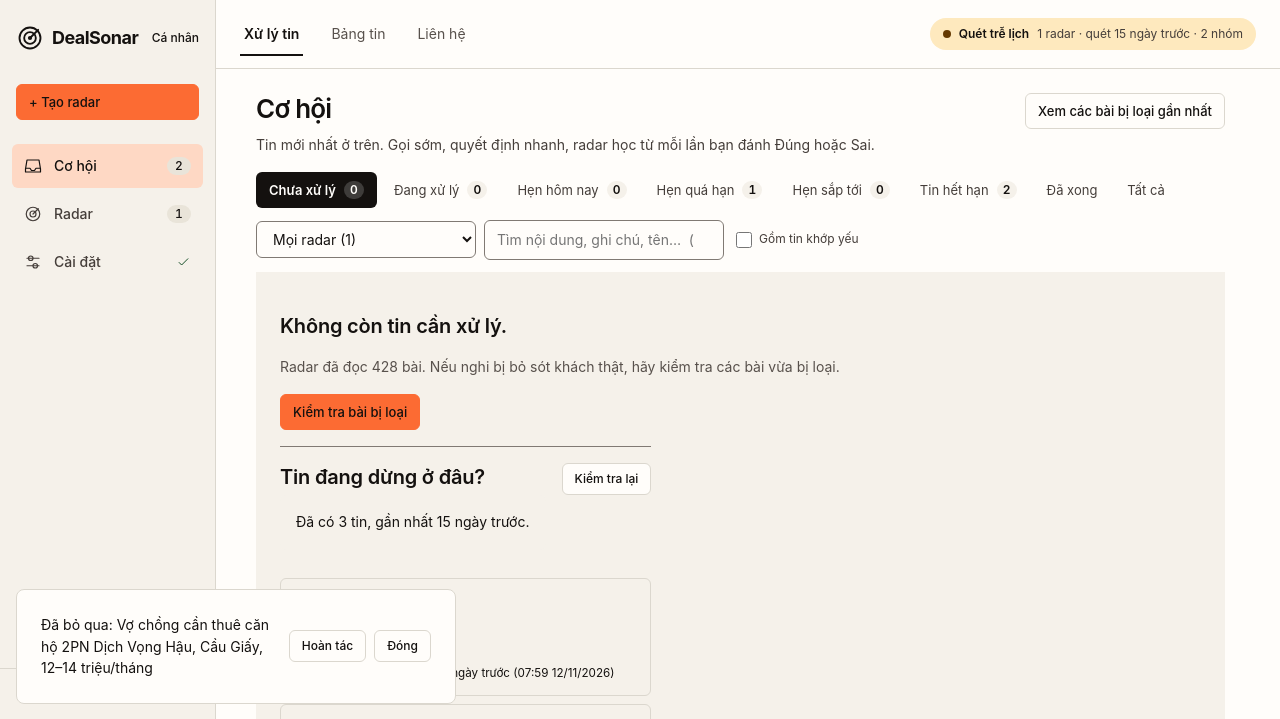
Triage queue › moves leads past their radar's lifetime out of Mới into Quá hạn
Expected: the heading "Cơ hội" is shown, top-left (256, 93), bottom-right (331, 124)
Expected: the heading "Không còn tin cần xử lý." is shown, top-left (280, 312), bottom-right (507, 340)
Click the button "Tin hết hạn 2" at (968, 190), box top-left (907, 172), bottom-right (1030, 208)
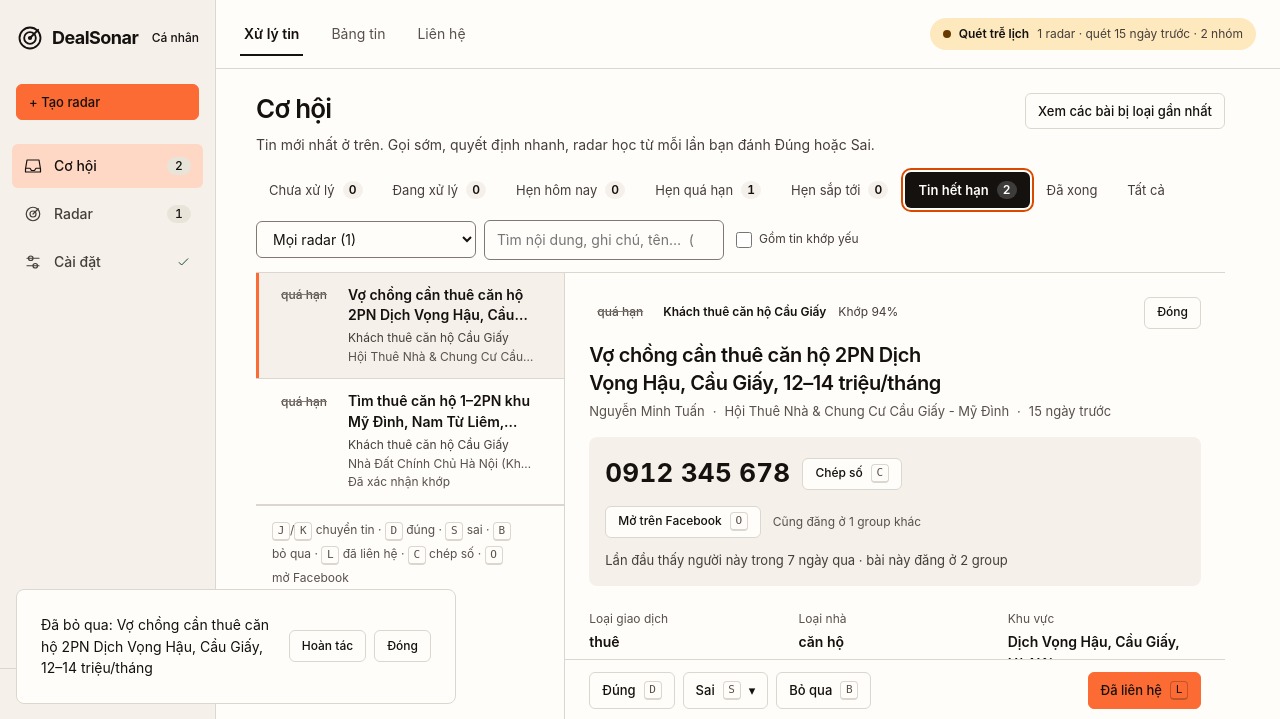
Now the 1st button with class "lead-row-item" is shown, box top-left (256, 273), bottom-right (564, 379)
Now the 1st text with class "expired" is shown, box top-left (281, 287), bottom-right (327, 302)
